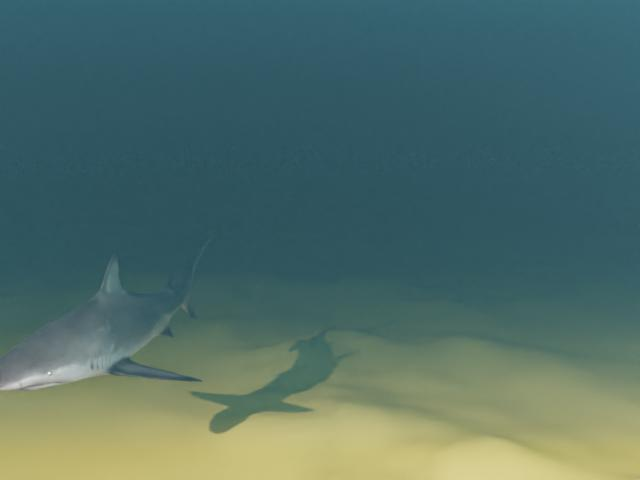Carribean Shark.001: (0, 226, 222, 391)
